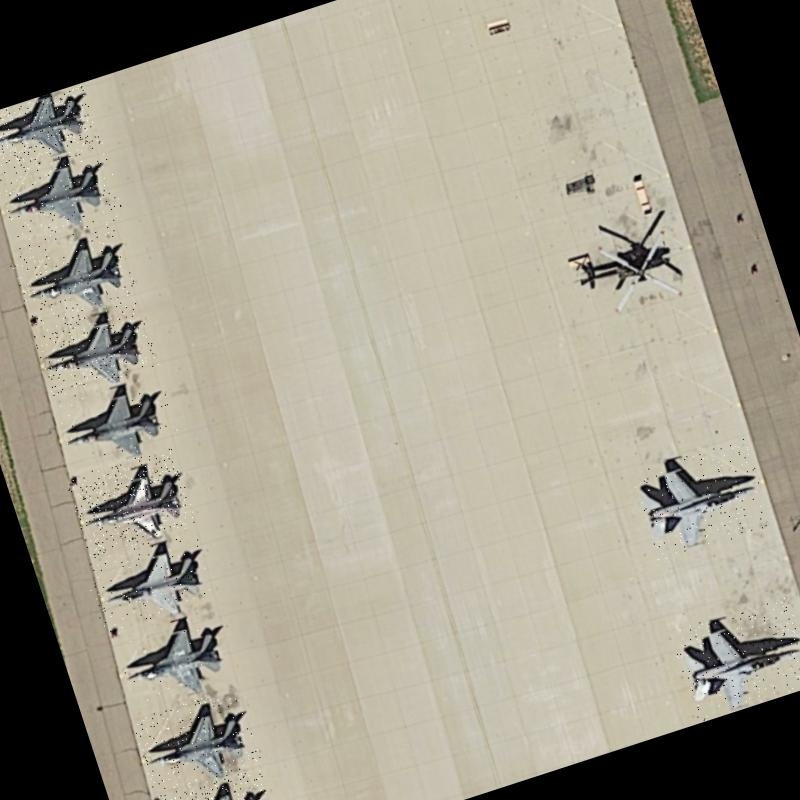A16: (630, 437, 774, 563), (669, 594, 800, 723)
A5: (109, 604, 244, 722), (66, 447, 199, 563), (47, 366, 182, 480), (81, 524, 219, 634), (131, 686, 263, 799), (8, 224, 141, 334), (0, 140, 127, 255), (32, 300, 164, 406), (0, 84, 101, 177), (154, 767, 286, 800)
